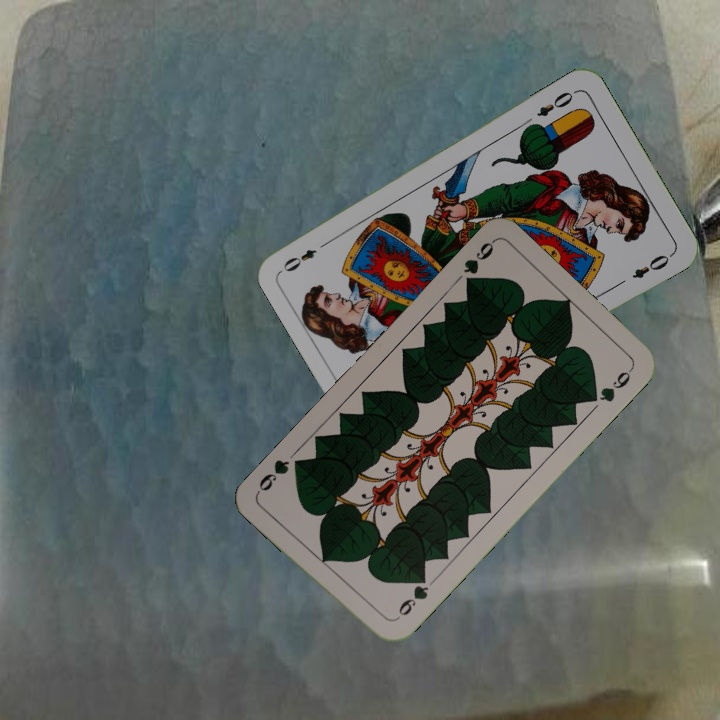EO: (532, 86, 580, 119)
G9: (390, 571, 432, 624), (459, 236, 497, 291)
